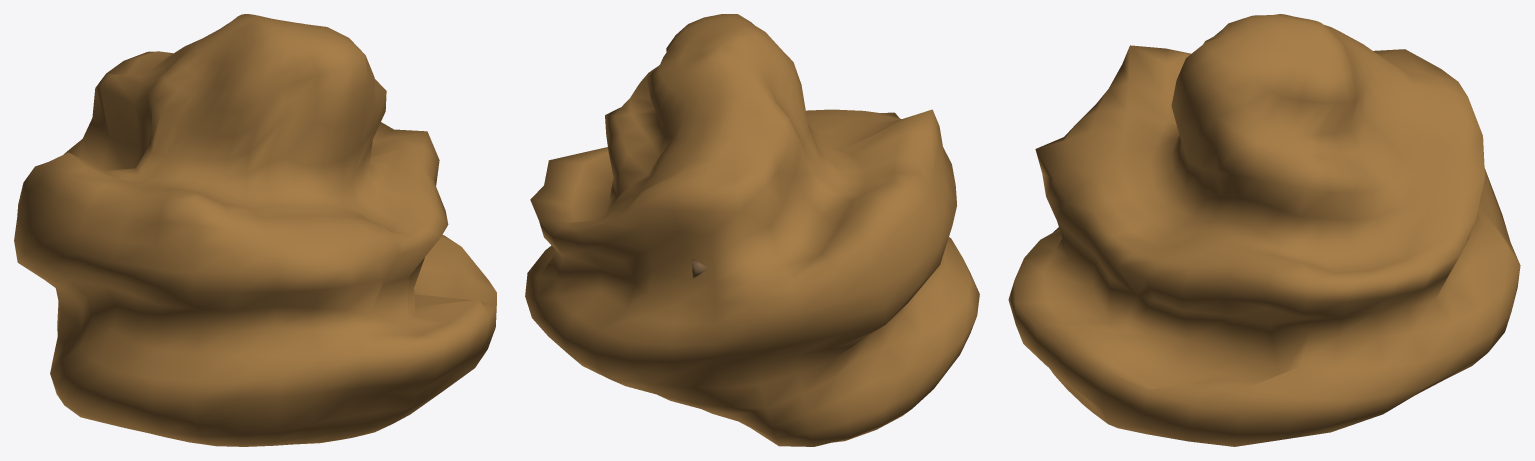
File: poop.fbx
3 views of the same model, side by side, from view 1: azimuth 30°, elevation 25°; view 2: azimuth 150°, elevation 25°; view 3: azimuth 270°, elevation 25° (orthographic). The views are drawn at different scales.
Parts seen in each view (by area): view 1: poooo; view 2: poooo; view 3: poooo.
Part boxes in pixels (x1=…): poooo: x1=14, y1=14, x2=496, y2=446; poooo: x1=525, y1=14, x2=979, y2=446; poooo: x1=1008, y1=14, x2=1520, y2=446.
Size of the model in its own units: 1.92 by 1.63 by 1.95.
